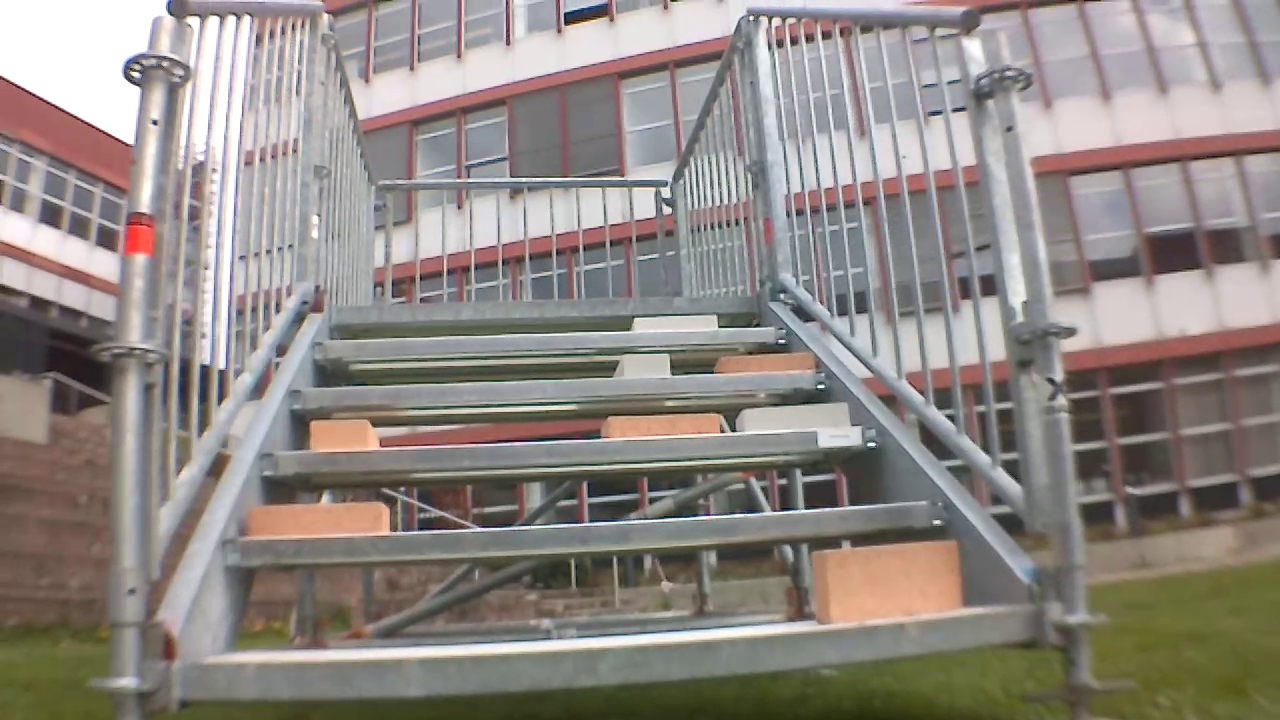brick: (807, 541, 959, 628), (239, 500, 395, 538), (592, 412, 725, 445), (738, 403, 851, 438), (302, 422, 382, 453), (712, 350, 811, 374), (626, 313, 720, 330), (611, 351, 665, 380)
edge: (178, 601, 1046, 708), (225, 494, 946, 566), (256, 423, 884, 481), (283, 374, 835, 416), (314, 323, 794, 362), (322, 300, 769, 330)
stairs: (113, 0, 1085, 712)
steps: (153, 294, 1044, 702)
